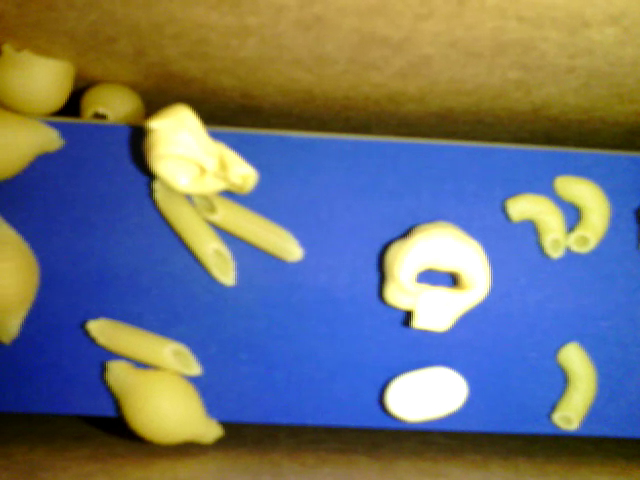elbow: (553, 175, 611, 254), (503, 191, 567, 261), (549, 340, 597, 431)
penne: (151, 177, 238, 288), (190, 190, 306, 263), (86, 317, 203, 376)
shell: (104, 360, 224, 443), (1, 43, 77, 116), (1, 217, 39, 343), (1, 108, 66, 179), (81, 83, 144, 121)
tortellini: (381, 220, 493, 332), (143, 102, 259, 194)
